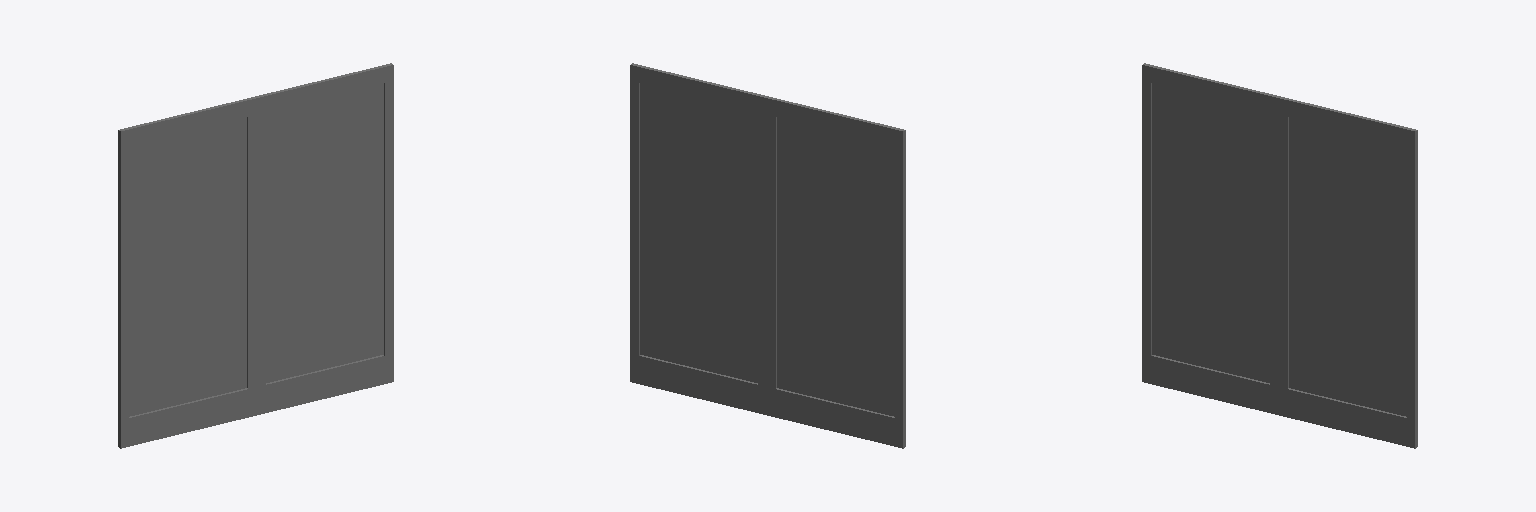
File: FrenchDoors.obj
3 renders of one model, left to right at view 1: azimuth 30°, elevation 25°; view 2: azimuth 150°, elevation 25°; view 3: azimuth 330°, elevation 25°, orthographic.
Parts seen in each view (by area): view 1: polySurface547; view 2: polySurface547; view 3: polySurface547.
Boxes of the visible parts, x1,y1,x2,y2 form: polySurface547: [118, 63, 393, 448]; polySurface547: [630, 63, 905, 448]; polySurface547: [1142, 63, 1417, 448].
Bounding box in the file's own units: 183 × 203 × 2.54.